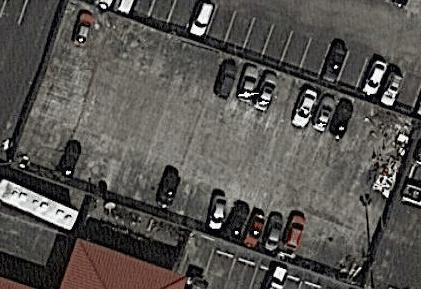parkingspot: (11, 119, 353, 279), (52, 0, 384, 152), (91, 0, 421, 116), (179, 231, 335, 289)
